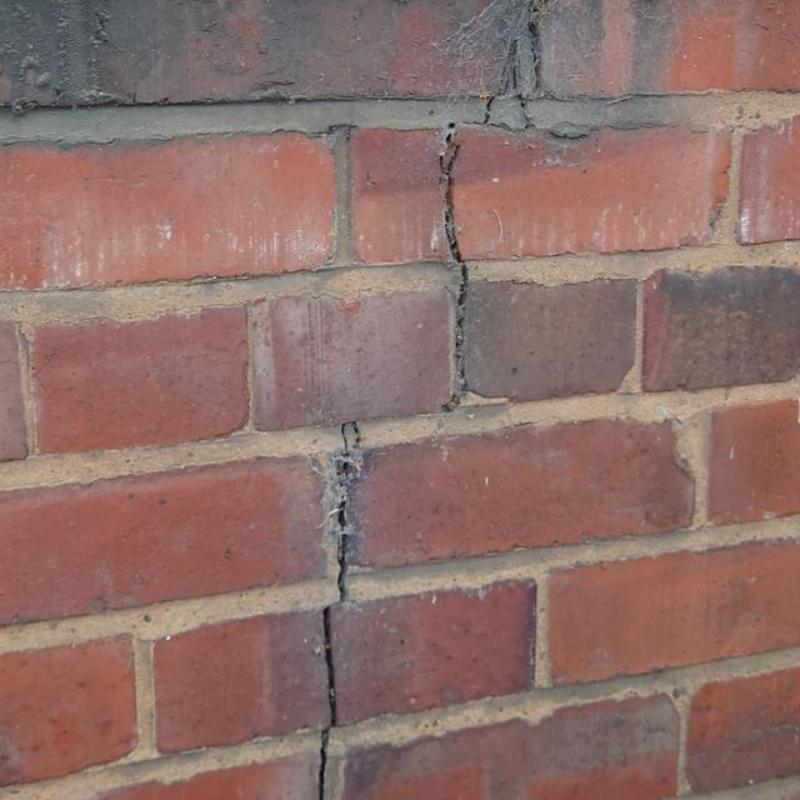pothole: (439, 125, 467, 409), (448, 92, 592, 139), (334, 422, 362, 602), (530, 1, 558, 92), (497, 40, 521, 96), (325, 607, 335, 725), (462, 388, 515, 403), (319, 730, 329, 799)
